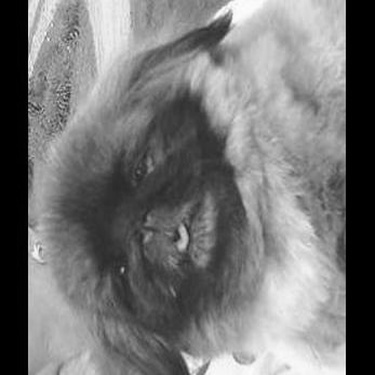dog: (28, 4, 339, 367)
